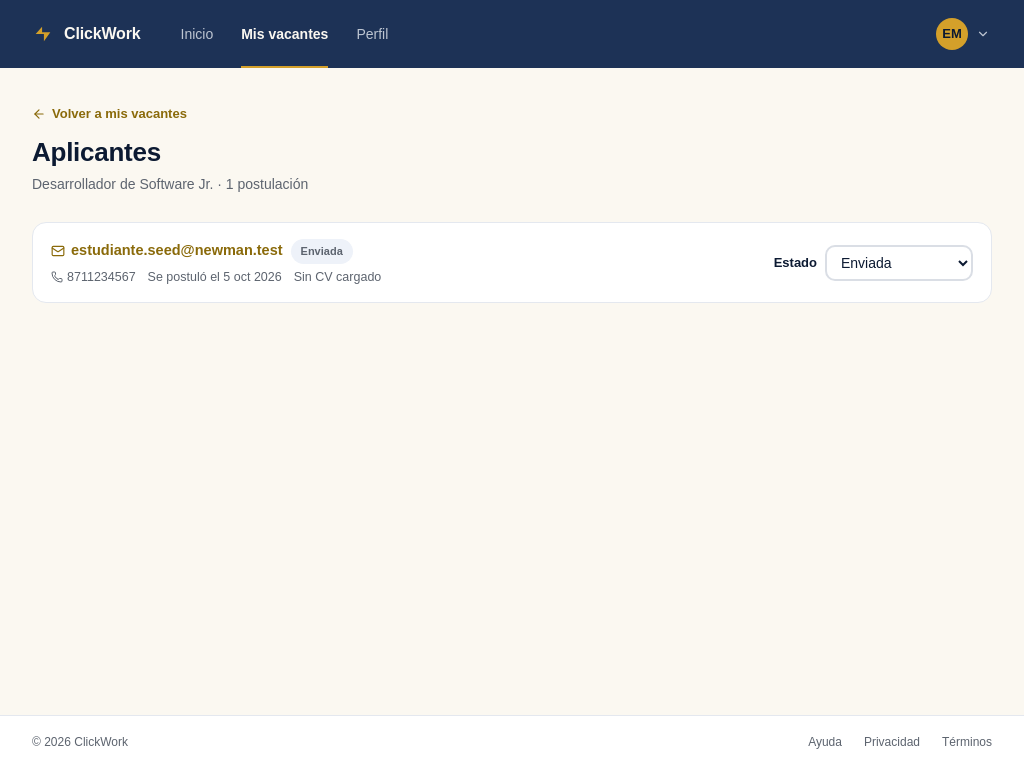
Test case: ApplicantsPage › keeps the old status and says why when the change fails
This screenshot has width=1024, height=768.
Select "Aceptada" in the dropdown named "Estado de la postulación de estudiante.seed@newman.test" at (899,263), box [825, 245, 973, 281]
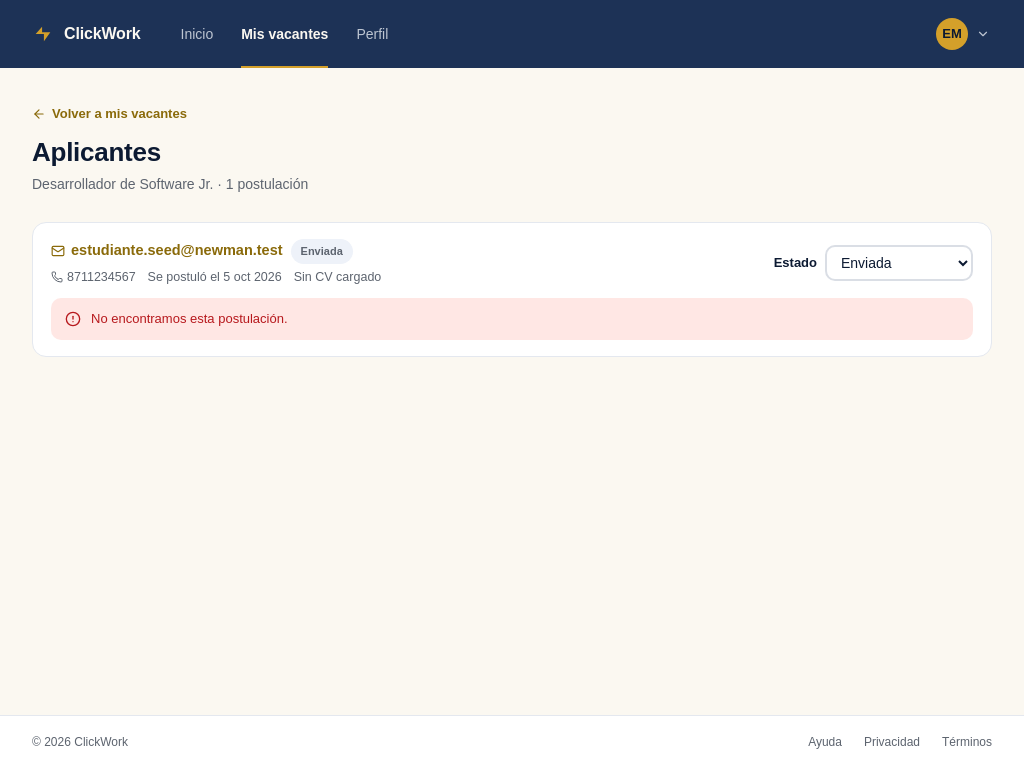
Check: the message reads "No encontramos esta postulación.", box [91, 311, 288, 326]
